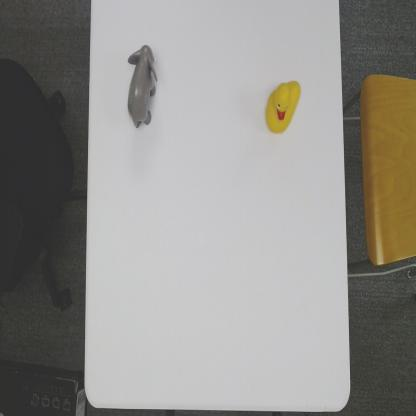Duck: (264, 77, 303, 136)
Elephant: (126, 43, 159, 131)
